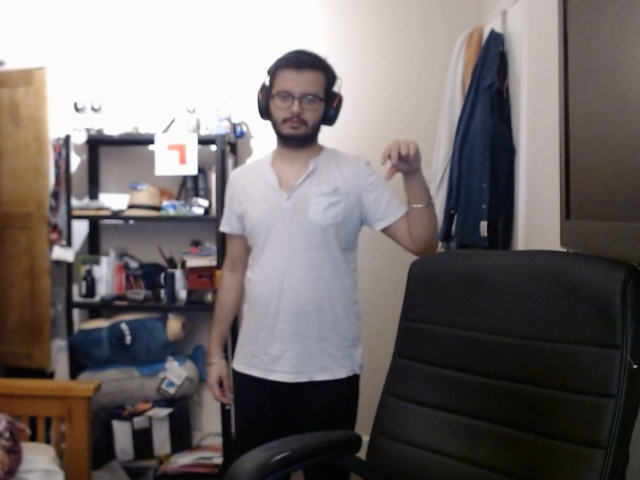No: (377, 137, 424, 189)
